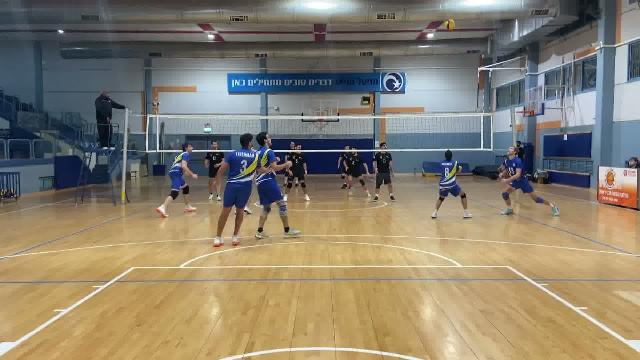ball: (445, 18, 454, 30)
